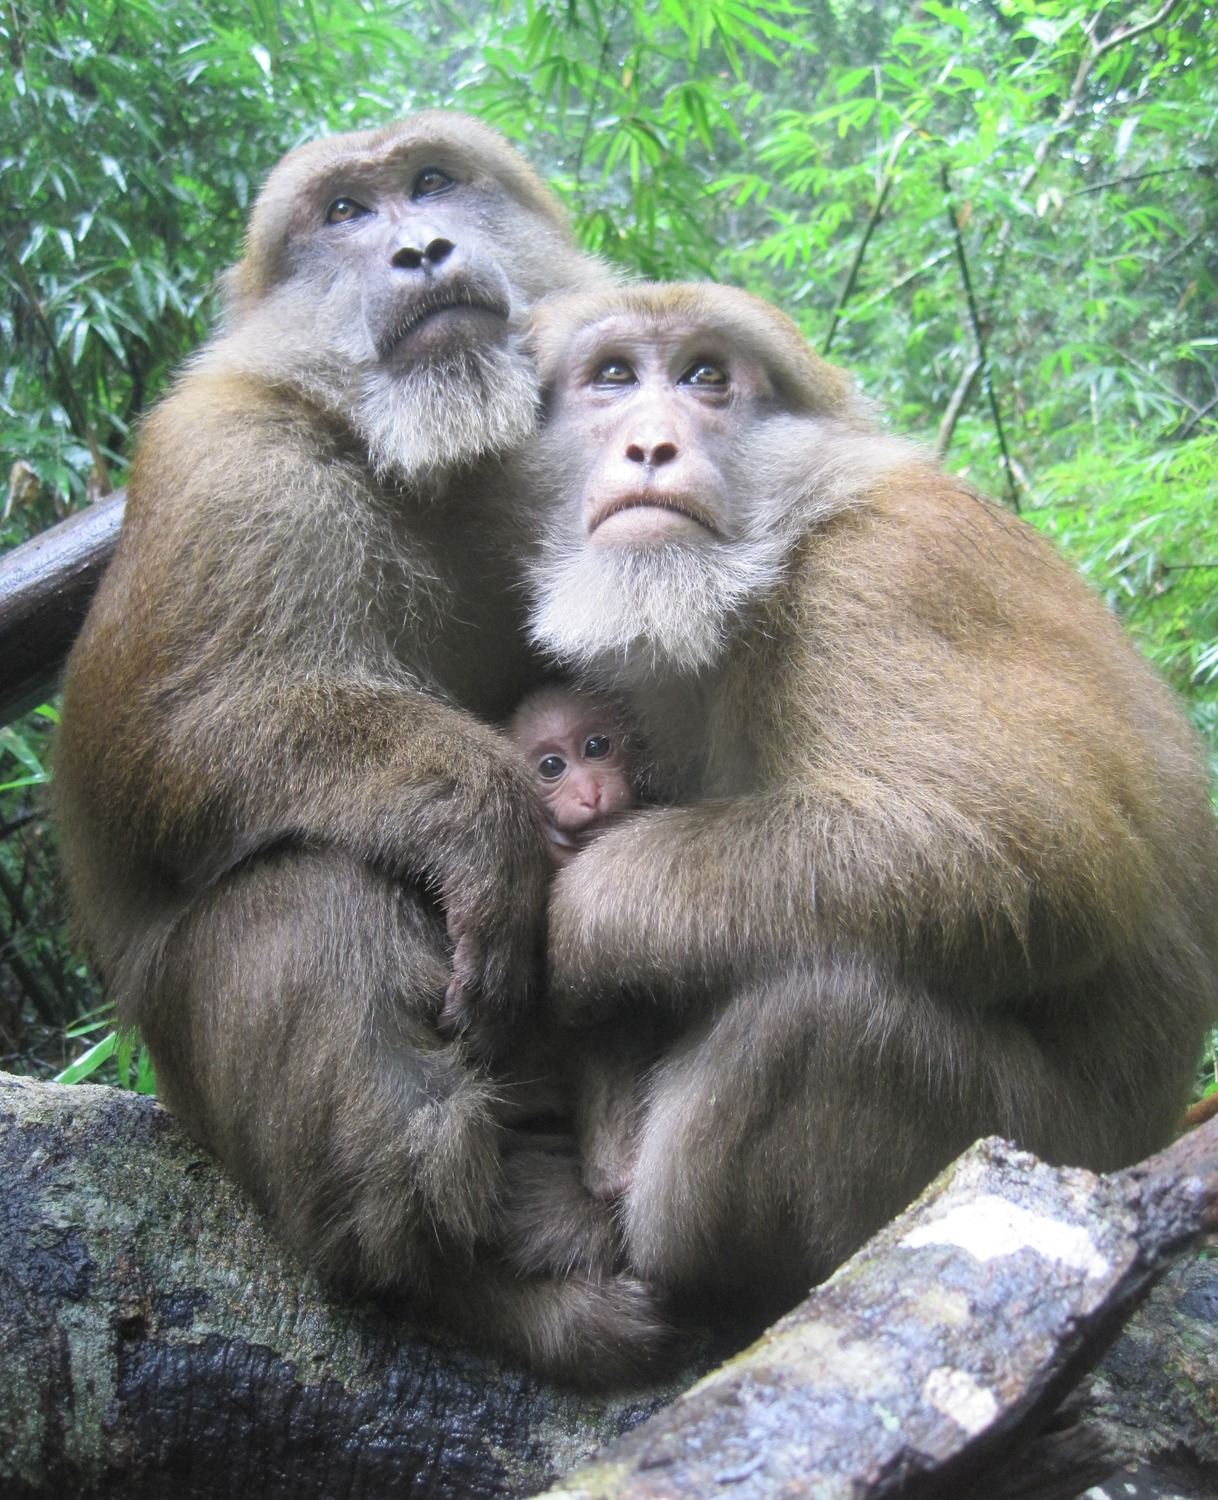monkey: (34, 97, 789, 1372), (472, 263, 1218, 1372), (374, 634, 736, 913)
